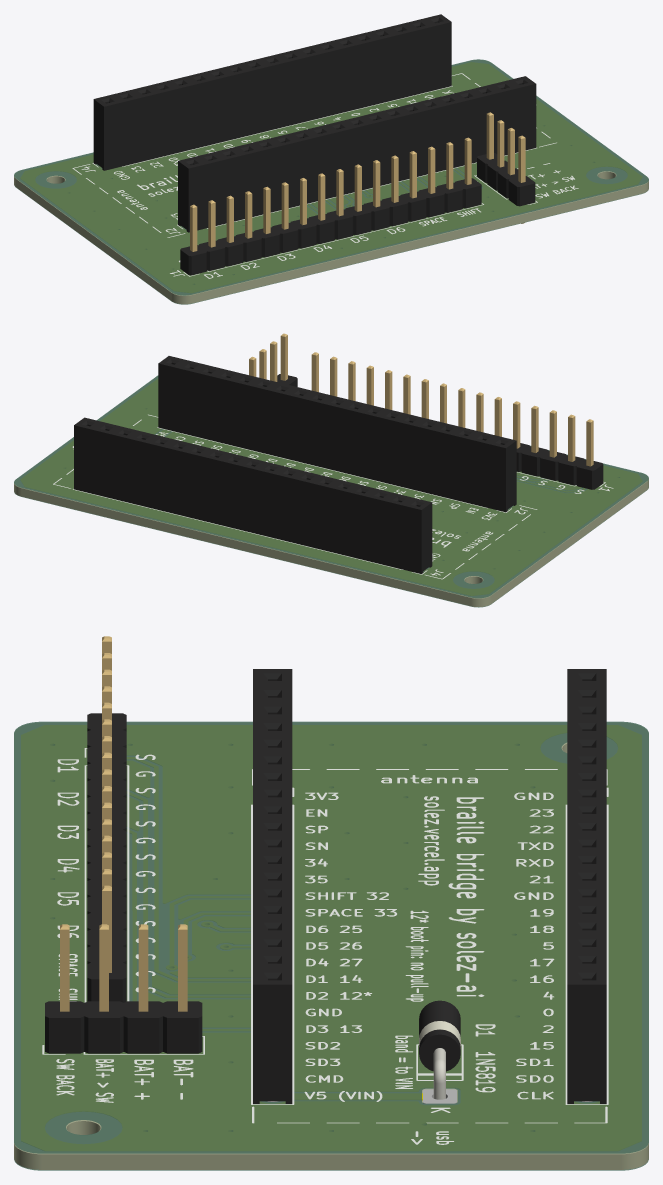
Rendered from bb1_wiring_board_v2.glb.
3 views of the same model, one above another, from view 1: azimuth 30°, elevation 25°; view 2: azimuth 150°, elevation 25°; view 3: azimuth 270°, elevation 25° (orthographic). The views are drawn at different scales.
Visible parts, largest first — view 1: =>[0:1:1:5] (×2), =>[0:1:1:14], =>[0:1:1:10], =>[0:1:1:9], =>[0:1:1:16], =>[0:1:1:3], =>[0:1:1:13], =>[0:1:1:15]; view 2: =>[0:1:1:5] (×2), =>[0:1:1:14], =>[0:1:1:10], =>[0:1:1:16], =>[0:1:1:9], =>[0:1:1:13], =>[0:1:1:3], =>[0:1:1:15]; view 3: =>[0:1:1:14], =>[0:1:1:10], =>[0:1:1:5] (×2), =>[0:1:1:16], =>[0:1:1:13], =>[0:1:1:9], =>[0:1:1:3], =>[0:1:1:7].
Boxes of the visible parts, x1,y1,x2,y2 form: =>[0:1:1:5] (×2): (93,14,536,232); =>[0:1:1:14]: (14,59,648,295); =>[0:1:1:10]: (21,62,641,292); =>[0:1:1:9]: (180,137,481,275); =>[0:1:1:16]: (14,60,648,304); =>[0:1:1:3]: (477,112,535,223); =>[0:1:1:13]: (72,73,578,278); =>[0:1:1:15]: (15,186,648,304); =>[0:1:1:5] (×2): (74,356,516,573); =>[0:1:1:14]: (14,375,648,598); =>[0:1:1:10]: (21,379,641,595); =>[0:1:1:16]: (14,376,648,606); =>[0:1:1:9]: (311,352,603,489); =>[0:1:1:13]: (53,414,613,579); =>[0:1:1:3]: (249,333,297,386); =>[0:1:1:15]: (14,487,648,607); =>[0:1:1:14]: (14,721,648,1153); =>[0:1:1:10]: (21,725,641,1150); =>[0:1:1:5] (×2): (253,669,606,1103); =>[0:1:1:16]: (14,723,648,1169); =>[0:1:1:13]: (42,748,608,1144); =>[0:1:1:9]: (87,636,126,1002); =>[0:1:1:3]: (45,924,202,1053); =>[0:1:1:7]: (419,1000,460,1099).
Size of the model in its own units: 0.066 by 0.0116 by 0.041.
